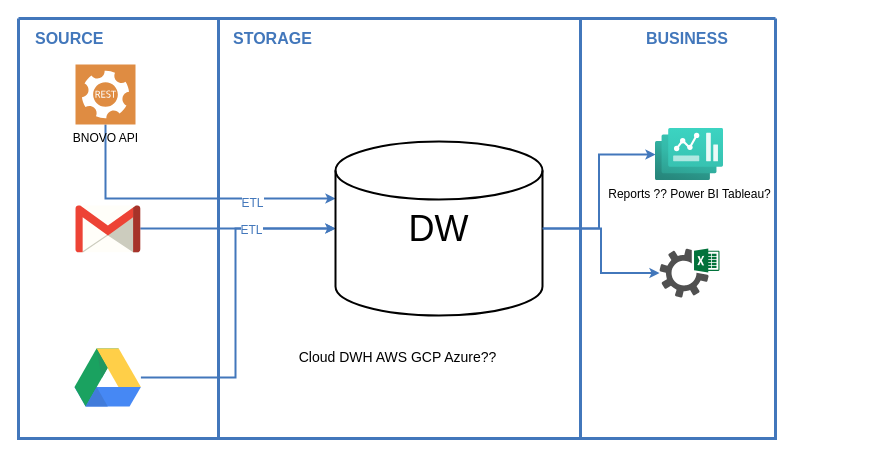
This 873x457 diagram has some shape labels left out. The centre of each missing label's shape, as x and y in pixels:
GMail: the point at 107,228
Google Drive: the point at 107,377
